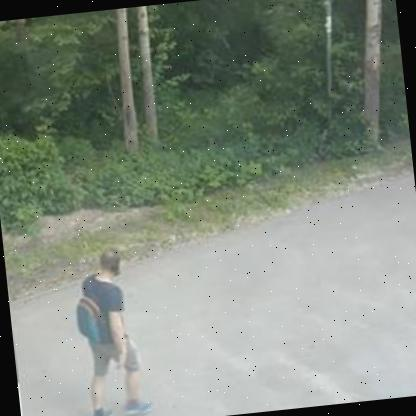person: (63, 239, 160, 416)
